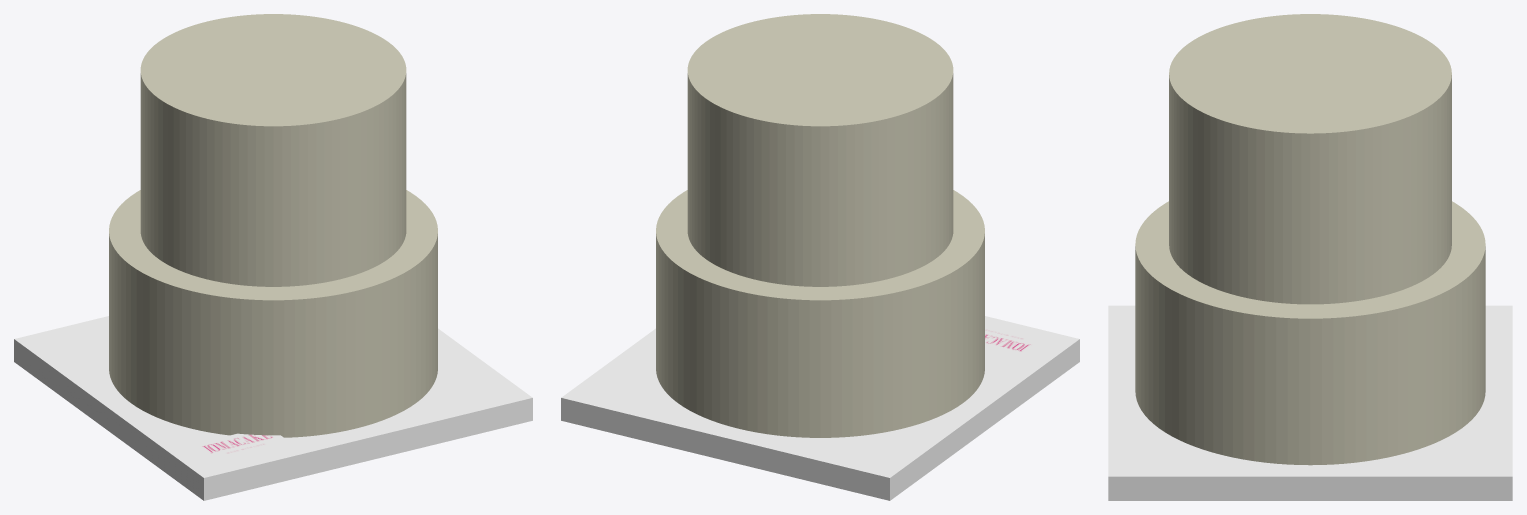
The model's file is cake_tier2_10-8_layers3_v34.glb.
The picture shows the model from 3 angles, left to right: view 1: azimuth 30°, elevation 25°; view 2: azimuth 150°, elevation 25°; view 3: azimuth 270°, elevation 25°; orthographic projection. The views are drawn at different scales.
Visible parts, largest first — view 1: Tier1, Tier0, Board, Logo; view 2: Tier1, Tier0, Board, Logo; view 3: Tier1, Tier0, Board.
Boxes of the visible parts, left/top/right/bottom form: Tier1: left=140, top=14, right=406, bottom=286; Tier0: left=109, top=190, right=437, bottom=437; Board: left=14, top=316, right=532, bottom=500; Logo: left=189, top=433, right=290, bottom=461; Tier1: left=687, top=14, right=953, bottom=286; Tier0: left=656, top=190, right=984, bottom=437; Board: left=561, top=316, right=1079, bottom=500; Logo: left=985, top=324, right=1047, bottom=356; Tier1: left=1169, top=14, right=1451, bottom=304; Tier0: left=1135, top=201, right=1485, bottom=465; Board: left=1108, top=305, right=1512, bottom=500.
Size of the model in its own units: 0.3 by 0.28 by 0.3.
